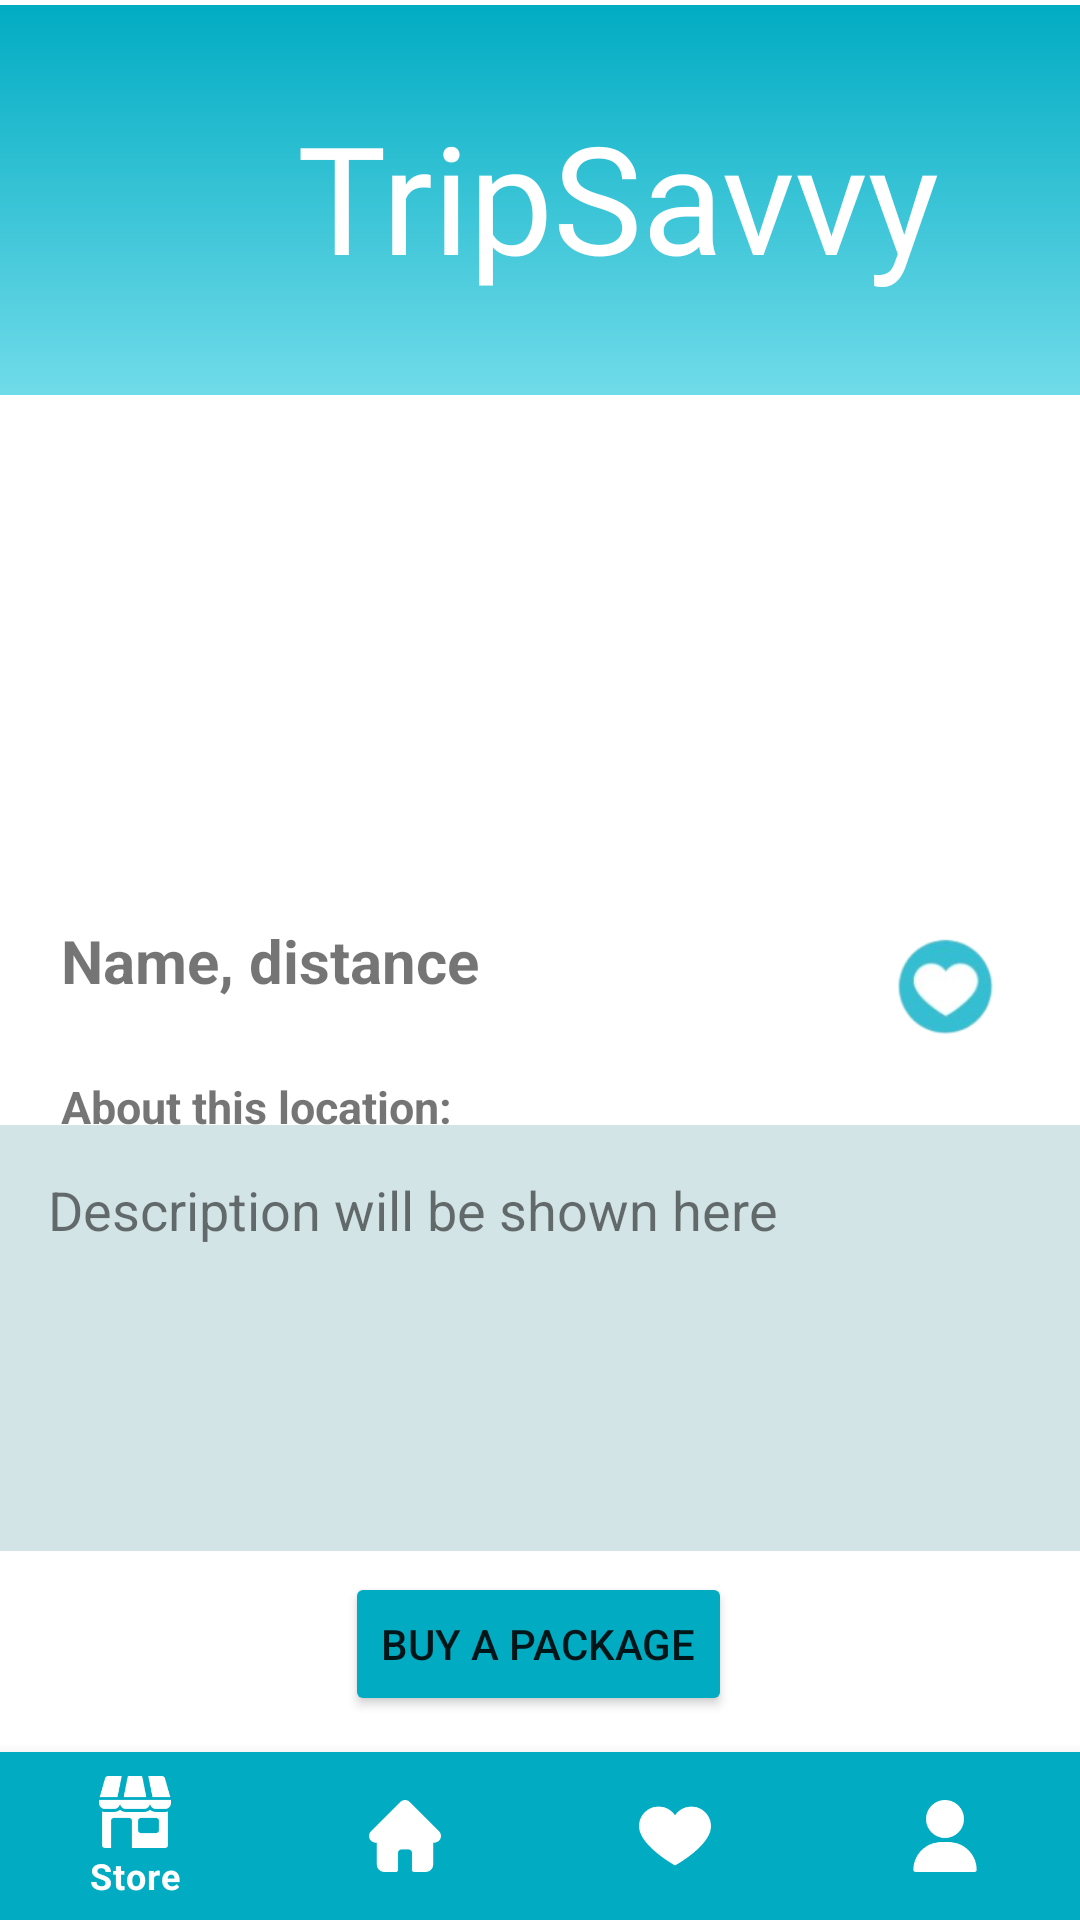

Named icons in this screenshot (1080×1920) and their centers, (x=x, y=y):
imgbutton fav: (x=945, y=986)
